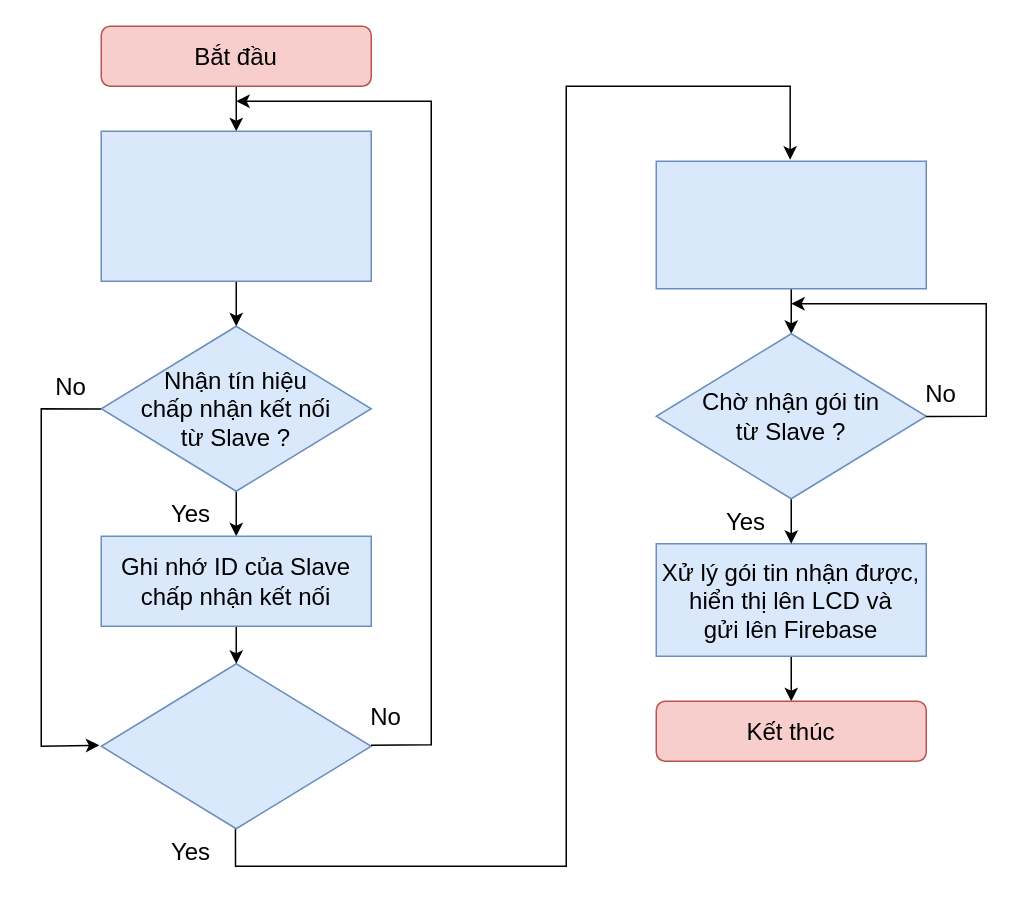
The diagram is 1025 pixels wide and 905 high, and some of its shapes have lost their labels. Each missing label, with the centre of its shape:
Gửi yêu cầu truyền dữ liệu đến các Slave đã ghi nhớ: point (790, 224)
Master gửi yêu cầu kết nối đến Slave và tiến hành chờ nhận phản hồi: point (235, 205)
Đã gửi yêu cầu kết nối đến Slave cuối cùng ?: point (235, 745)
